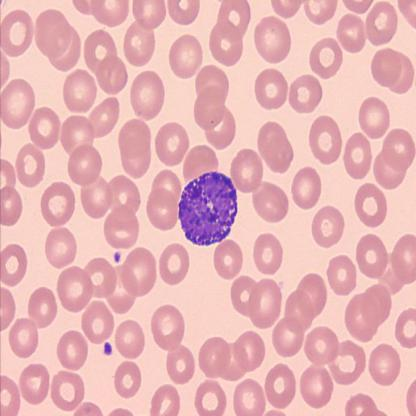Basophil: (176, 172, 239, 245)
